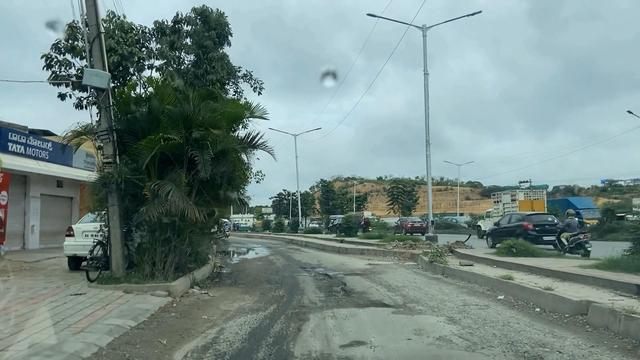RoadDamages: (301, 259, 394, 317), (330, 337, 378, 352)
